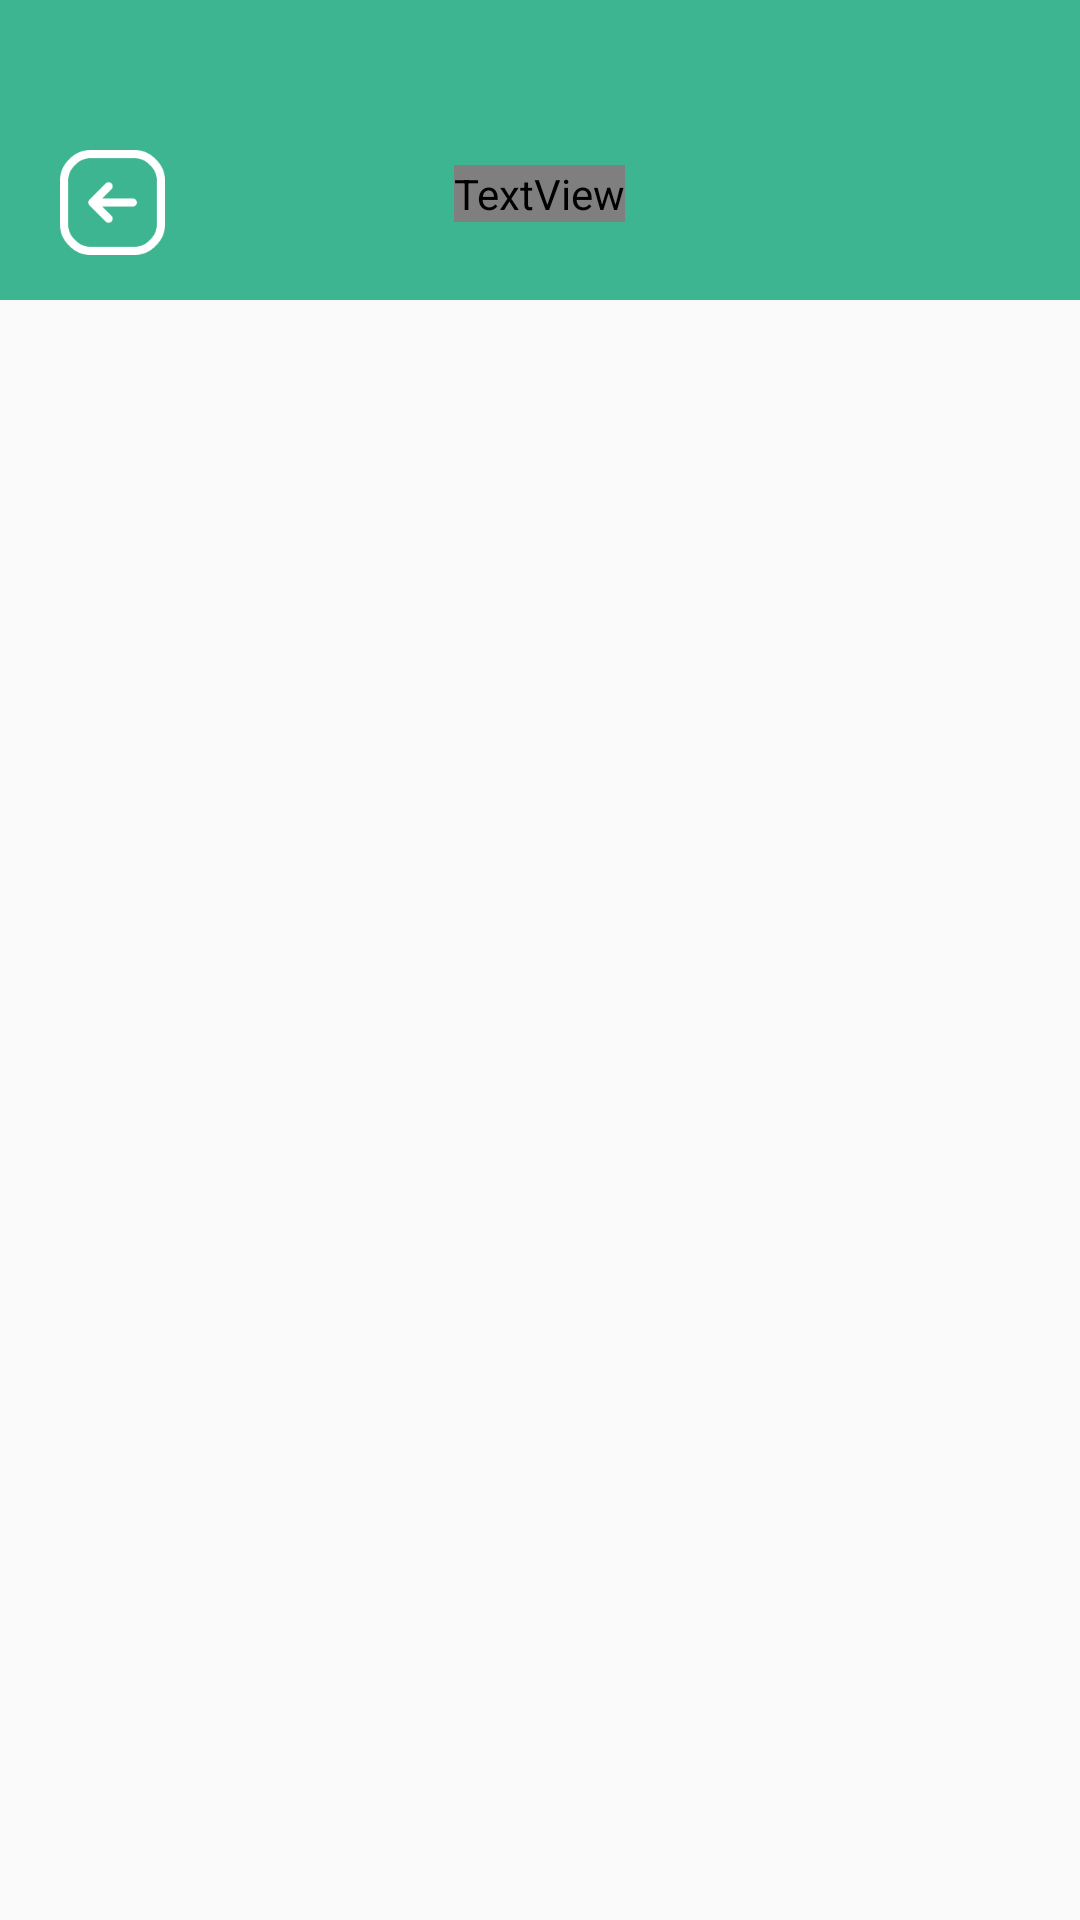

Where to tap for icons on this 1080*1920 app screen, as (x,y):
back: (112,202)
